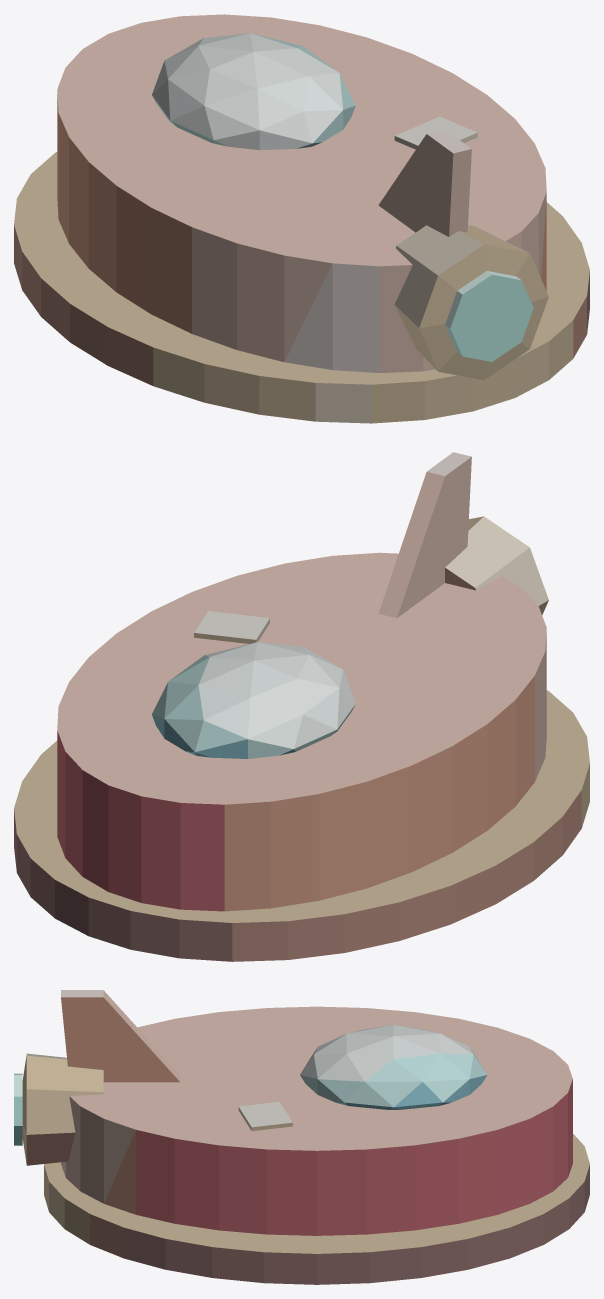
Rendered from ship_hover_sled.glb.
3 views of the same model, one above another, from view 1: azimuth 30°, elevation 25°; view 2: azimuth 150°, elevation 25°; view 3: azimuth 270°, elevation 25° (orthographic). The views are drawn at different scales.
Parts seen in each view (by area): view 1: ship_hover_sled; view 2: ship_hover_sled; view 3: ship_hover_sled.
Boxes of the visible parts, left/top/right/bottom form: ship_hover_sled: left=14, top=14, right=589, bottom=423; ship_hover_sled: left=14, top=452, right=589, bottom=961; ship_hover_sled: left=14, top=990, right=589, bottom=1284.
Size of what is drawn, in the model's own units: 5 by 2.6 by 6.75.
